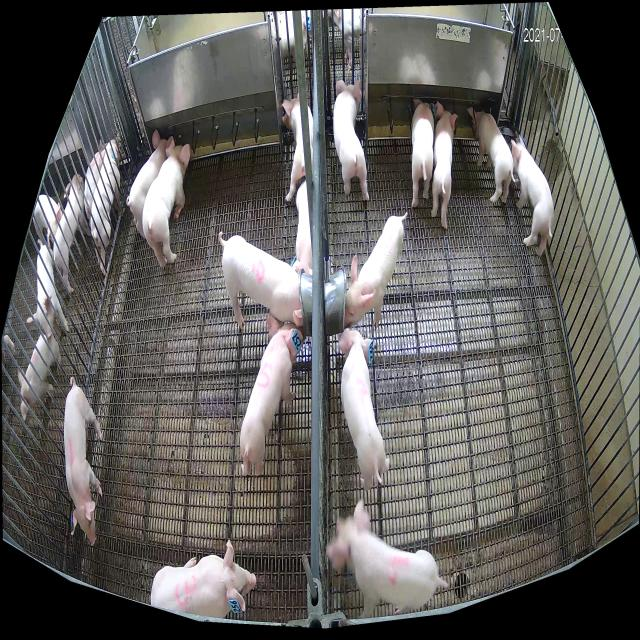pig: (325, 500, 448, 618), (240, 318, 303, 475), (339, 329, 390, 490), (151, 540, 256, 618), (219, 231, 303, 328), (345, 212, 408, 327), (64, 376, 102, 545), (142, 136, 190, 267), (511, 134, 554, 256), (126, 129, 169, 239), (467, 108, 515, 203), (333, 79, 369, 201), (281, 94, 314, 201), (432, 102, 458, 229), (412, 98, 435, 208), (293, 180, 313, 274)
